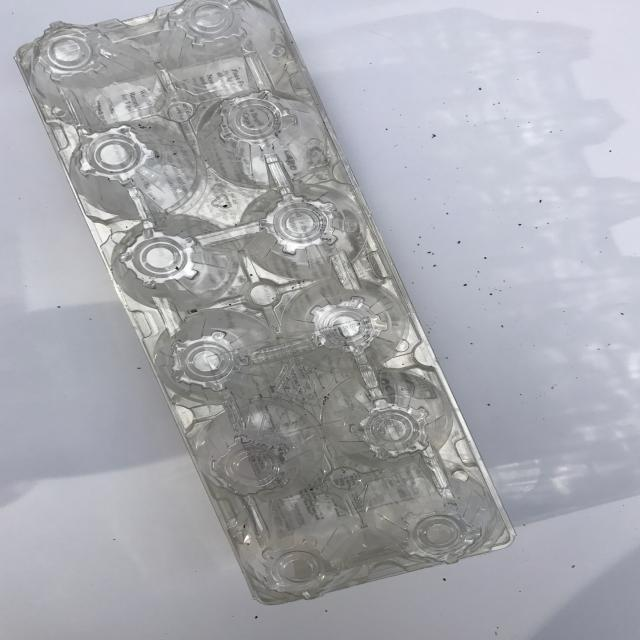plastic: (13, 0, 518, 605)
